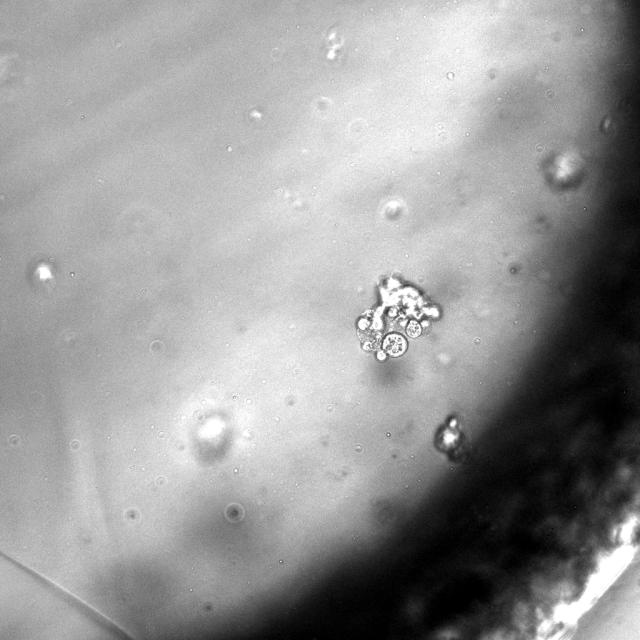organoid: (356, 274, 442, 361), (434, 416, 468, 462)
